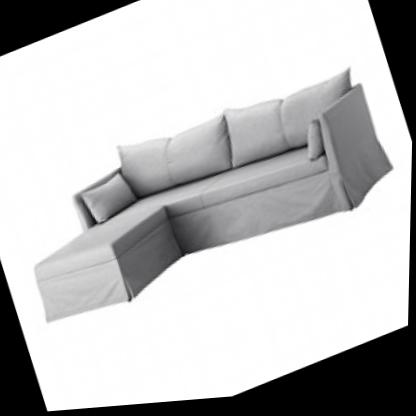Sofa: (0, 38, 414, 359)
